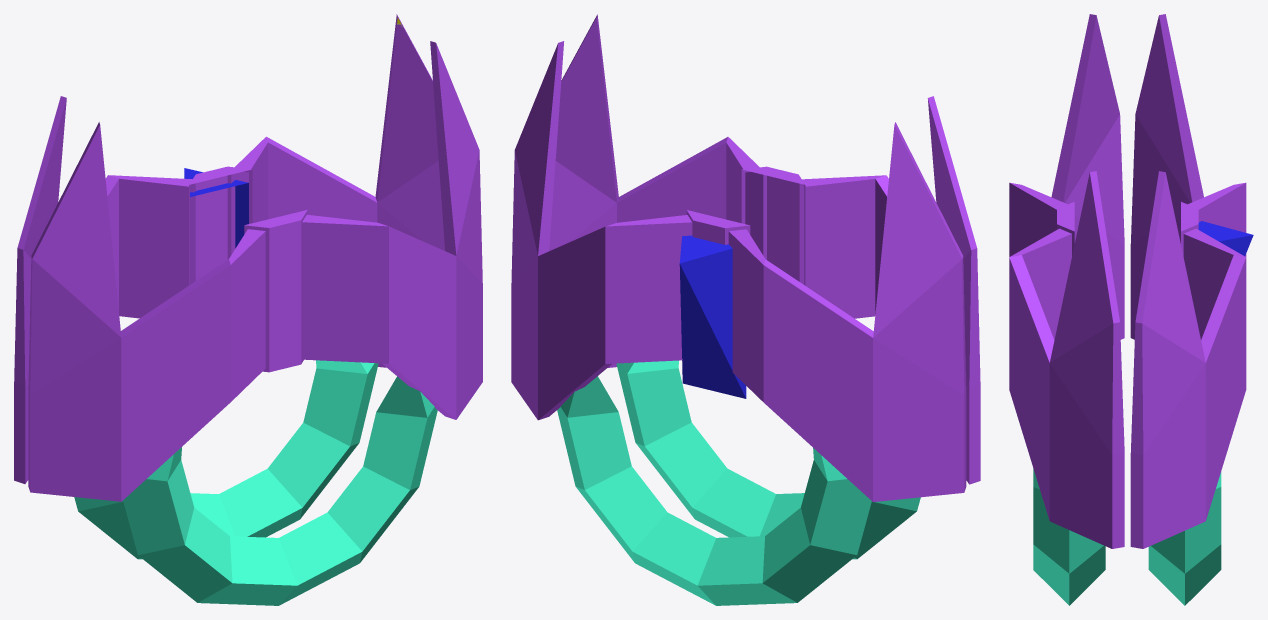
Rendered from Tour arbalète2.fbx.
3 renders of one model, left to right at view 1: azimuth 30°, elevation 25°; view 2: azimuth 150°, elevation 25°; view 3: azimuth 270°, elevation 25°, orthographic. The views are drawn at different scales.
Parts seen in each view (by area): view 1: Tour 2; view 2: Tour 2; view 3: Tour 2.
Boxes of the visible parts, x1,y1,x2,y2 form: Tour 2: [14, 14, 482, 605]; Tour 2: [511, 14, 980, 605]; Tour 2: [1009, 14, 1253, 605].
Size of the model in its own units: 14.22 by 15.45 by 6.89.
